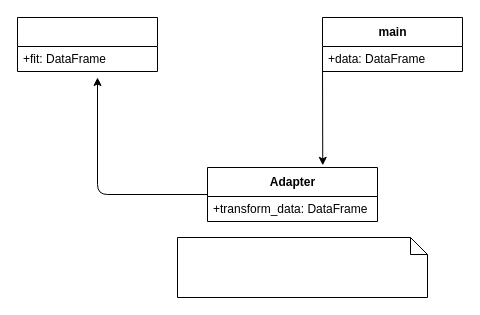
The diagram is 480 pixels wide and 315 high, and some of its shapes have lost their labels. The box of each missing label's shape, as (x1, y1, x2, y2) in pixels:
df_train = convert to correct format(data) return transform_data(df_train): (176, 236, 428, 298)
Prophet: (16, 16, 158, 72)
